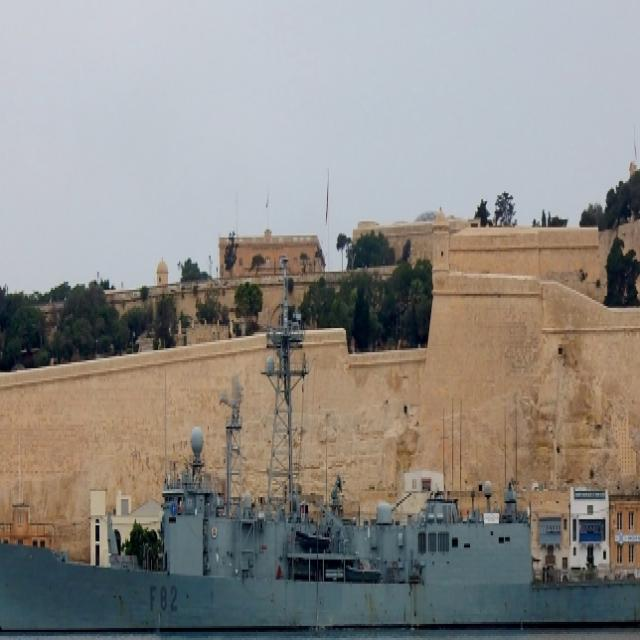Fragata: (1, 252, 640, 640)
